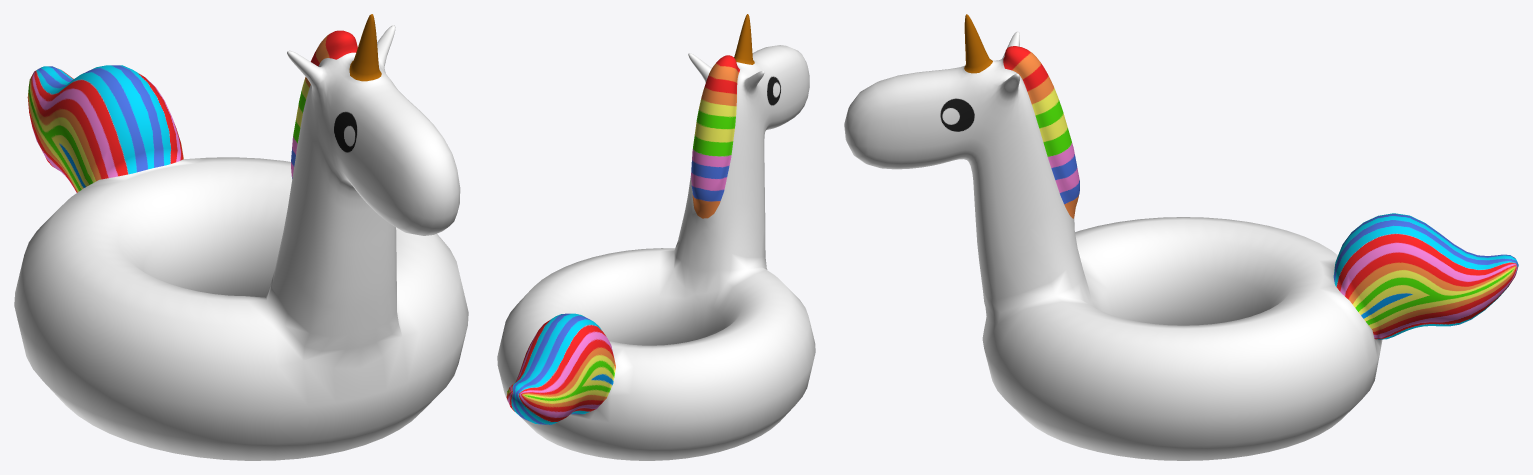
File: flota.fbx
The picture shows the model from 3 angles, left to right: view 1: azimuth 30°, elevation 25°; view 2: azimuth 150°, elevation 25°; view 3: azimuth 270°, elevation 25°; orthographic projection. The views are drawn at different scales.
Parts seen in each view (by area): view 1: Torus.004; view 2: Torus.004; view 3: Torus.004.
Part boxes in pixels (bbox=[...]): Torus.004: bbox=[14, 14, 468, 460]; Torus.004: bbox=[497, 14, 815, 460]; Torus.004: bbox=[844, 14, 1518, 460].
Size of the model in its own units: 2.88 by 3.34 by 5.24.
1 material, 1 textured.
